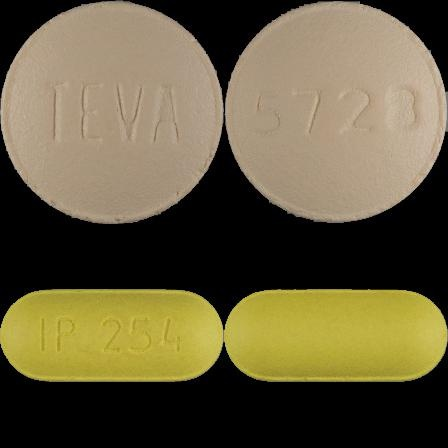43063-086: (0, 0, 224, 224)
